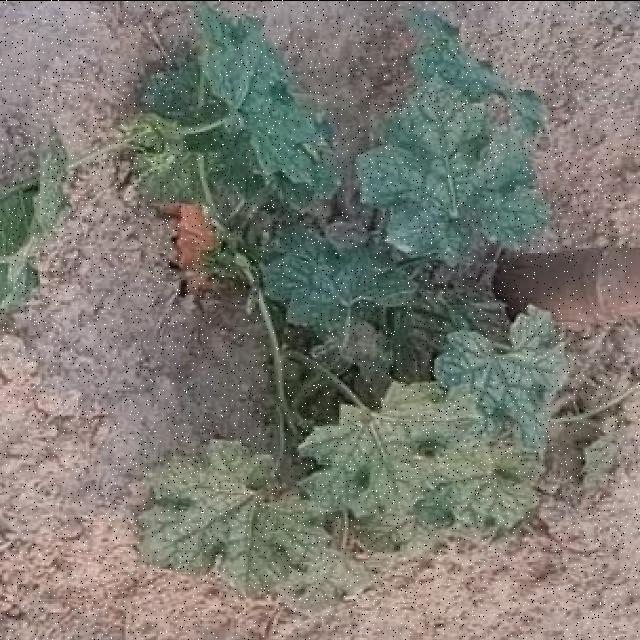plant: (135, 0, 569, 608)
